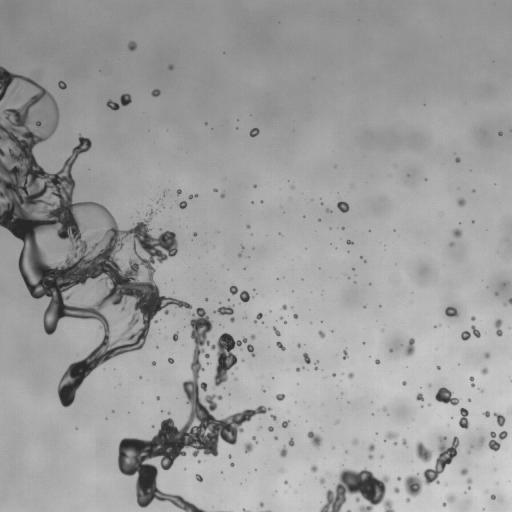droplet: (319, 468, 394, 511), (435, 387, 459, 405), (488, 430, 507, 451), (416, 442, 432, 462), (307, 430, 322, 447), (405, 338, 414, 356), (494, 412, 505, 426), (120, 93, 131, 106), (442, 495, 455, 506), (337, 201, 349, 212), (240, 290, 251, 302), (106, 100, 119, 110), (445, 306, 458, 316), (471, 325, 480, 337), (384, 432, 397, 440), (249, 128, 259, 137), (244, 442, 253, 452), (229, 285, 238, 294), (461, 331, 470, 340), (276, 341, 285, 350), (303, 353, 310, 364), (280, 446, 287, 457), (128, 41, 136, 50), (453, 229, 462, 237), (58, 81, 66, 89), (457, 198, 465, 206), (178, 201, 186, 209), (151, 89, 160, 96), (273, 327, 280, 335), (318, 330, 325, 338), (276, 394, 284, 401), (481, 367, 488, 374), (416, 393, 423, 400), (282, 420, 289, 427), (460, 468, 467, 475), (195, 474, 202, 481), (173, 332, 178, 341), (368, 444, 374, 451), (311, 465, 317, 472), (479, 437, 484, 445), (484, 352, 490, 358), (483, 411, 489, 417), (319, 478, 325, 484), (439, 436, 446, 441), (289, 438, 294, 445), (176, 189, 181, 195), (348, 372, 353, 378), (394, 487, 399, 493), (455, 157, 460, 162), (168, 358, 173, 363), (271, 414, 276, 419), (268, 426, 273, 431), (490, 494, 495, 499), (346, 240, 352, 244), (402, 439, 406, 445), (168, 65, 173, 69), (293, 314, 298, 318), (230, 317, 234, 322), (251, 334, 255, 339), (375, 359, 379, 364), (353, 439, 357, 444), (368, 454, 372, 459), (467, 478, 471, 483), (188, 195, 194, 198), (220, 193, 224, 197), (282, 305, 286, 309), (164, 310, 168, 314), (471, 316, 475, 320), (296, 367, 300, 371), (402, 381, 406, 385), (382, 407, 386, 411), (230, 462, 234, 466), (397, 476, 401, 480), (498, 132, 502, 135), (326, 209, 330, 212), (450, 242, 453, 246), (436, 366, 440, 369), (259, 503, 263, 506), (214, 188, 217, 191), (246, 225, 249, 228), (193, 232, 196, 235), (121, 307, 124, 310), (297, 344, 300, 347), (152, 362, 155, 365), (262, 388, 265, 391), (335, 420, 338, 423), (241, 246, 244, 248), (238, 254, 241, 256), (495, 292, 497, 295), (389, 349, 392, 351), (332, 374, 335, 376), (156, 397, 159, 399), (428, 403, 430, 406), (394, 442, 396, 445), (228, 455, 231, 457), (284, 481, 287, 483), (254, 185, 256, 187), (342, 227, 344, 229), (279, 233, 281, 235), (280, 316, 282, 318), (468, 399, 470, 401)
ligament: (0, 65, 191, 407), (118, 307, 271, 511), (404, 436, 459, 502), (459, 408, 469, 428), (214, 306, 233, 314), (494, 319, 502, 336), (247, 344, 255, 356), (254, 313, 262, 323), (343, 349, 348, 359), (469, 376, 474, 386), (314, 361, 318, 369), (252, 437, 257, 443), (13, 85, 17, 91), (508, 298, 511, 304), (243, 509, 249, 511), (346, 509, 351, 511), (264, 510, 270, 511)
